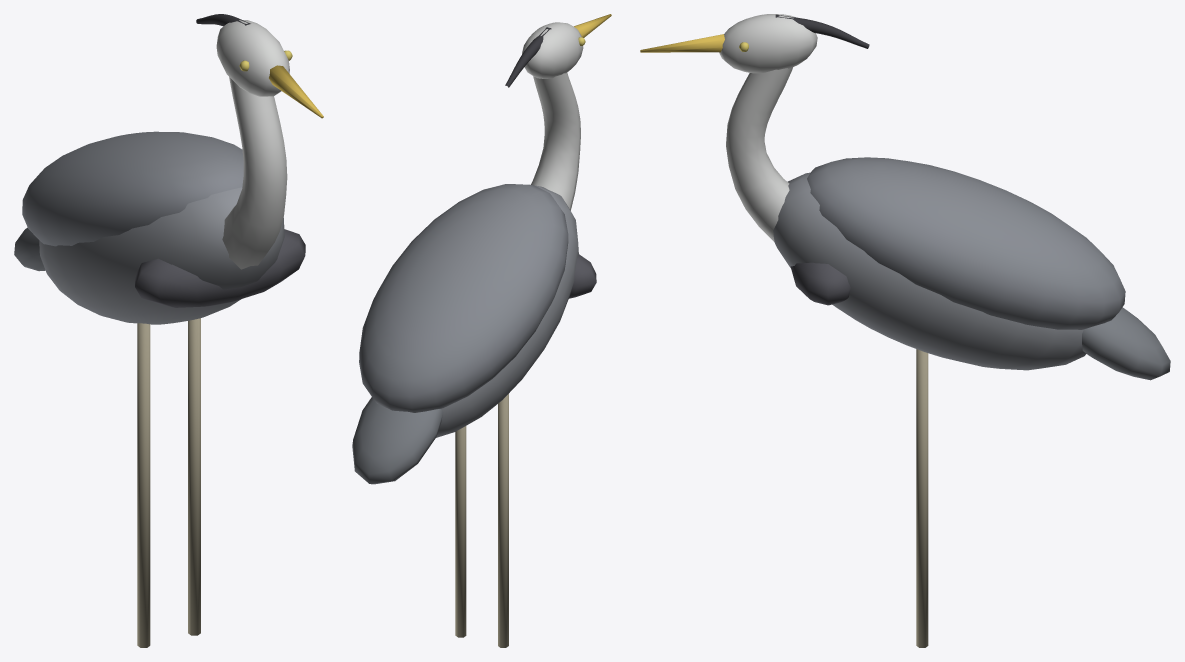
3 views of the same model, side by side, from view 1: azimuth 30°, elevation 25°; view 2: azimuth 150°, elevation 25°; view 3: azimuth 270°, elevation 25° (orthographic). The views are drawn at different scales.
Visible parts, largest first — view 1: heron_body, heron_trim; view 2: heron_body, heron_trim; view 3: heron_body, heron_trim.
Boxes of the visible parts, <box> form: heron_body: <box>14,20,289,324</box>; heron_trim: <box>135,14,323,647</box>; heron_body: <box>352,22,583,484</box>; heron_trim: <box>455,14,611,647</box>; heron_body: <box>719,14,1170,380</box>; heron_trim: <box>640,14,928,647</box>.
Bounding box in the file's own units: 0.28 × 1.02 × 0.7894.
